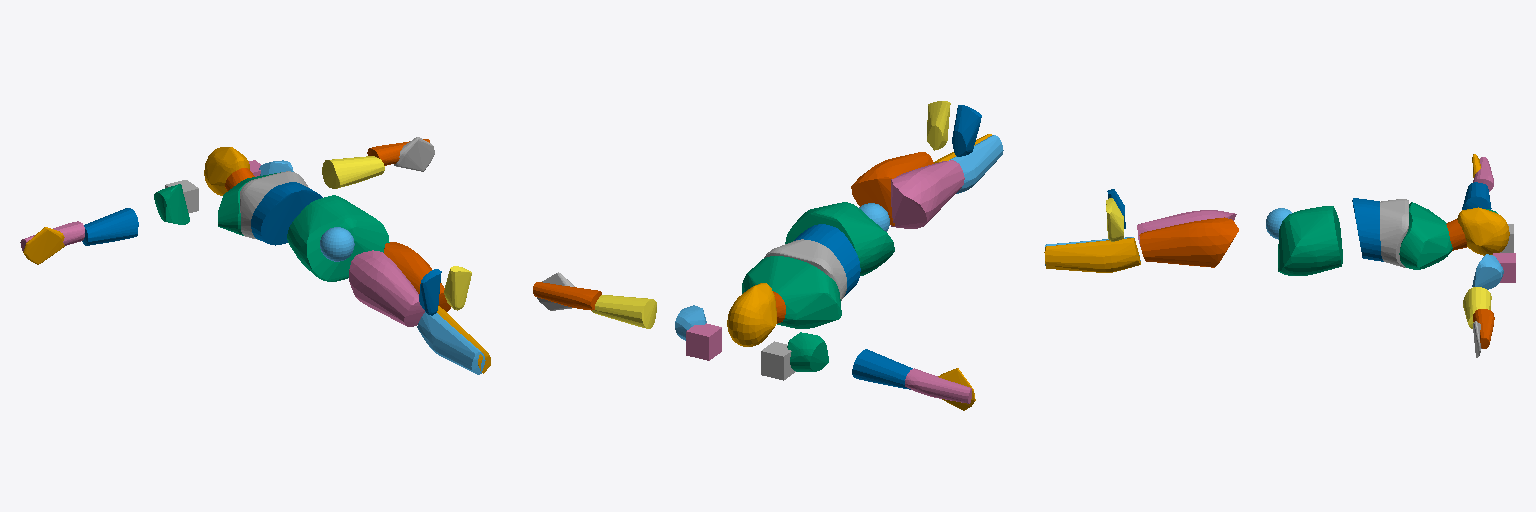
The robot description file, URDF, robot "Humanoid":
<?xml version="1.0" ?>
<robot name="Humanoid">

	<link name="root">
		<inertial>
			<origin xyz="0.0 0.0 0.0" rpy="0.0 0.0 0.0"/>
			<mass value="0.00001"/>
			<inertia ixx="0.1" ixy="0.0" ixz="0.0" iyy="0.1" iyz="0.0" izz="0.1"/>
		</inertial>
		<visual>
			<origin xyz="0.0 0.0 0.0" rpy="0.0 0.0 0.0"/>
			<geometry>
				<sphere radius="0.000001" />
			</geometry>
		</visual>
		<collision>
			<origin xyz="0.0 0.0 0.0" rpy="0.0 0.0 0.0"/>
			<geometry>
				<sphere radius="0.00000004" />
			</geometry>
		</collision>
	</link>

	<link name="root_ori">
		<inertial>
			<origin xyz="-0.00179506 -0.22333345 0.02821913" rpy="0.0 0.0 0.0"/>
			<mass value="0.0"/>
			<inertia ixx="0.0" ixy="0.0" ixz="0.0" iyy="0.0" iyz="0.0" izz="0.0"/>
		</inertial>
		<visual>
			<origin xyz="-0.00179506 -0.22333345 0.02821913" rpy="0.0 0.0 0.0"/>
			<geometry>
				<sphere radius="0.07"/>
			</geometry>
		</visual>
		<collision>
			<origin xyz="-0.00179506 -0.22333345 0.02821913" rpy="0.0 0.0 0.0"/>
			<geometry>
				<sphere radius="0.07"/>
			</geometry>
		</collision>
	</link>

	<joint name="root_joint" type="fixed">
		<origin xyz="-0.00179506 -0.22333345 0.02821913" rpy="0.0 0.0 0.0"/>
		<parent link="root"/>
		<child link="root_ori"/>
	</joint>
	
	<link name="left_hip">
		<inertial>
			<origin xyz="0.00057561 -0.00681268 -0.01696218" rpy="0.0 0.0 0.0"/>
			<mass value="0.00004"/>
			<inertia ixx="0.1" ixy="0.0" ixz="0.0" iyy="0.1" iyz="0.0" izz="0.1"/>
		</inertial>
		<visual>
			<origin xyz="0.00057561 -0.00681268 -0.01696218" rpy="0.0 0.0 0.0"/>
			<geometry>
				<mesh filename="package://Humanoid/meshes/body_parts_hips.obj" />
			</geometry>
		</visual>
		<collision>
			<origin xyz="0.00057561 -0.00681268 -0.01696218" rpy="0.0 0.0 0.0"/>
			<geometry>
				<mesh filename="package://Humanoid/meshes/body_parts_hips.obj" />
			</geometry>
		</collision>
	</link>

	<joint name="left_hip_joint" type="revolute">
		<origin xyz="0.06951974 -0.09140623 -0.00681533" rpy="0.0 0.0 0.0"/>
		<parent link="root_ori"/>
		<child link="left_hip"/>
		<axis xyz="0.0 1.0 0.0"/>
		<limit lower="-2.5" upper="1.4" effort="1000.0" velocity="0.5"/>
	</joint>

	<link name="right_hip">
		<inertial>
			<origin xyz="0.00057561 -0.00681268 -0.01696218" rpy="0.0 0.0 0.0"/>
			<mass value="0.00004"/>
			<inertia ixx="0.1" ixy="0.0" ixz="0.0" iyy="0.1" iyz="0.0" izz="0.1"/>
		</inertial>
		<visual>
			<origin xyz="0.00057561 -0.00681268 -0.01696218" rpy="0.0 0.0 0.0"/>
			<geometry>
				<mesh filename="package://Humanoid/meshes/body_parts_hips.obj" />
			</geometry>
		</visual>
		<collision>
			<origin xyz="0.00057561 -0.00681268 -0.01696218" rpy="0.0 0.0 0.0"/>
			<geometry>
				<mesh filename="package://Humanoid/meshes/body_parts_hips.obj" />
			</geometry>
		</collision>
	</link>

	<joint name="right_hip_joint" type="revolute">
		<origin xyz="0.06951974 -0.09140623 -0.00681533" rpy="0.0 0.0 0.0"/>
		<parent link="root_ori"/>
		<child link="right_hip"/>
		<axis xyz="0.0 1.0 0.0"/>
		<limit lower="-2.5" upper="1.4" effort="1000.0" velocity="0.5"/>
	</joint>

	<link name="spine1">
		<inertial>
			<origin xyz="0.0029969 0.06265952 0.02763221" rpy="0.0 0.0 0.0"/>
			<mass value="0.000001"/>
			<inertia ixx="0.1" ixy="0.0" ixz="0.0" iyy="0.1" iyz="0.0" izz="0.1"/>
		</inertial>
		<visual>
			<origin xyz="0.0029969 0.06265952 0.02763221" rpy="0.0 0.0 0.0"/>
			<geometry>
				<mesh filename="package://Humanoid/meshes/body_parts_spine.obj" />
			</geometry>
		</visual>
		<collision>
			<origin xyz="0.0029969 0.06265952 0.02763221" rpy="0.0 0.0 0.0"/>
			<geometry>
				<mesh filename="package://Humanoid/meshes/body_parts_spine.obj" />
			</geometry>
		</collision>
	</link>

	<joint name="spine1_joint" type="fixed">
		<origin xyz="-0.00253287 0.10896324 -0.02669631" rpy="0.0 0.0 0.0"/>
		<parent link="root_ori"/>
		<child link="spine1"/>
	</joint>

	<link name="left_knee">
		<inertial>
			<origin xyz="0.02136212 -0.15149257 0.00267958" rpy="0.0 0.0 0.0"/>
			<mass value="0.000001"/>
			<inertia ixx="0.1" ixy="0.0" ixz="0.0" iyy="0.1" iyz="0.0" izz="0.1"/>
		</inertial>
		<visual>
			<origin xyz="0.02136212 -0.15149257 0.00267958" rpy="0.0 0.0 0.0"/>
			<geometry>
				<mesh filename="package://Humanoid/meshes/body_parts_leftUpLeg.obj" />
			</geometry>
		</visual>
		<collision>
			<origin xyz="0.02136212 -0.15149257 0.00267958" rpy="0.0 0.0 0.0"/>
			<geometry>
				<mesh filename="package://Humanoid/meshes/body_parts_leftUpLeg.obj" />
			</geometry>
		</collision>
	</link>

	<joint name="left_knee_joint" type="revolute">
		<origin xyz="0.03427655 -0.37519857 -0.00449581" rpy="0.0 0.0 0.0"/>
		<parent link="left_hip"/>
		<child link="left_knee"/>
		<axis xyz="0.0 1.0 0.0"/>
		<limit lower="-0.1" upper="2.5" effort="1000.0" velocity="0.5"/>
	</joint>

	<link name="right_knee">
		<inertial>
			<origin xyz="-0.02252603 -0.15352734 -0.00307775" rpy="0.0 0.0 0.0"/>
			<mass value="0.00001"/>
			<inertia ixx="0.1" ixy="0.0" ixz="0.0" iyy="0.1" iyz="0.0" izz="0.1"/>
		</inertial>
		<visual>
			<origin xyz="-0.02252603 -0.15352734 -0.00307775" rpy="0.0 0.0 0.0"/>
			<geometry>
				<mesh filename="package://Humanoid/meshes/body_parts_rightUpLeg.obj" />
			</geometry>
		</visual>
		<collision>
			<origin xyz="-0.02252603 -0.15352734 -0.00307775" rpy="0.0 0.0 0.0"/>
			<geometry>
				<mesh filename="package://Humanoid/meshes/body_parts_rightUpLeg.obj" />
			</geometry>
		</collision>
	</link>

	<joint name="right_knee_joint" type="revolute">
		<origin xyz="-0.03829005 -0.382569 -0.00885003" rpy="0.0 0.0 0.0"/>
		<parent link="right_hip"/>
		<child link="right_knee"/>
		<axis xyz="0.0 1.0 0.0"/>
		<limit lower="-0.1" upper="2.5" effort="1000.0" velocity="0.5"/>
	</joint>

	<link name="spine2">
		<inertial>
			<origin xyz="-0.00052418 0.02933144 0.02045965" rpy="0.0 0.0 0.0"/>
			<mass value="0.000001"/>
			<inertia ixx="0.1" ixy="0.0" ixz="0.0" iyy="0.1" iyz="0.0" izz="0.1"/>
		</inertial>
		<visual>
			<origin xyz="-0.00052418 0.02933144 0.02045965" rpy="0.0 0.0 0.0"/>
			<geometry>
				<mesh filename="package://Humanoid/meshes/body_parts_spine1.obj" />
			</geometry>
		</visual>
		<collision>
			<origin xyz="-0.00052418 0.02933144 0.02045965" rpy="0.0 0.0 0.0"/>
			<geometry>
				<mesh filename="package://Humanoid/meshes/body_parts_spine1.obj" />
			</geometry>
		</collision>
	</link>

	<joint name="spine2_joint" type="fixed">
		<origin xyz="0.00548704 0.13518043 0.00109247" rpy="0.0 0.0 0.0"/>
		<parent link="spine1"/>
		<child link="spine2"/>
	</joint>

	<link name="left_ankle">
		<inertial>
			<origin xyz="-0.00726278 -0.16462932 -0.0345356" rpy="0.0 0.0 0.0"/>
			<mass value="0.00001"/>
			<inertia ixx="0.1" ixy="0.0" ixz="0.0" iyy="0.1" iyz="0.0" izz="0.1"/>
		</inertial>
		<visual>
			<origin xyz="-0.00726278 -0.16462932 -0.0345356" rpy="0.0 0.0 0.0"/>
			<geometry>
				<mesh filename="package://Humanoid/meshes/body_parts_leftLeg.obj" />
			</geometry>
		</visual>
		<collision>
			<origin xyz="-0.00726278 -0.16462932 -0.0345356" rpy="0.0 0.0 0.0"/>
			<geometry>
				<mesh filename="package://Humanoid/meshes/body_parts_leftLeg.obj" />
			</geometry>
		</collision>
	</link>

	<joint name="left_ankle_joint" type="revolute">
		<origin xyz="-0.0135957 -0.39796048 -0.04369333" rpy="0.0 0.0 0.0"/>
		<parent link="left_knee"/>
		<child link="left_ankle"/>
		<axis xyz="0.0 1.0 0.0"/>
		<limit lower="-0.4" upper="0.7" effort="1000.0" velocity="0.5"/>
	</joint>

	<link name="right_ankle">
		<inertial>
			<origin xyz="0.01018021 -0.15886355 -0.03476419" rpy="0.0 0.0 0.0"/>
			<mass value="0.00001"/>
			<inertia ixx="0.0" ixy="0.0" ixz="0.0" iyy="0.0" iyz="0.0" izz="0.0"/>
		</inertial>
		<visual>
			<origin xyz="0.01018021 -0.15886355 -0.03476419" rpy="0.0 0.0 0.0"/>
			<geometry>
				<mesh filename="package://Humanoid/meshes/body_parts_rightLeg.obj" />
			</geometry>
		</visual>
		<collision>
			<origin xyz="0.01018021 -0.15886355 -0.03476419" rpy="0.0 0.0 0.0"/>
			<geometry>
				<mesh filename="package://Humanoid/meshes/body_parts_rightLeg.obj" />
			</geometry>
		</collision>
	</link>

	<joint name="right_ankle_joint" type="revolute">
		<origin xyz="0.01577377 -0.3984146 -0.0423118" rpy="0.0 0.0 0.0"/>
		<parent link="right_knee"/>
		<child link="right_ankle"/>
		<axis xyz="0.0 1.0 0.0"/>
		<limit lower="-0.4" upper="0.7" effort="1000.0" velocity="0.5"/>
	</joint>

	<link name="spine3">
		<inertial>
			<origin xyz="-0.0022121 0.09440039 -0.03596294" rpy="0.0 0.0 0.0"/>
			<mass value="0.000001"/>
			<inertia ixx="0.1" ixy="0.0" ixz="0.0" iyy="0.1" iyz="0.0" izz="0.1"/>
		</inertial>
		<visual>
			<origin xyz="-0.0022121 0.09440039 -0.03596294" rpy="0.0 0.0 0.0"/>
			<geometry>
				<mesh filename="package://Humanoid/meshes/body_parts_spine2.obj" />
			</geometry>
		</visual>
		<collision>
			<origin xyz="-0.0022121 0.09440039 -0.03596294" rpy="0.0 0.0 0.0"/>
			<geometry>
				<mesh filename="package://Humanoid/meshes/body_parts_spine2.obj" />
			</geometry>
		</collision>
	</link>

	<joint name="spine3_joint" type="fixed">
		<origin xyz="0.001457 0.05292223 0.02542457" rpy="0.0 0.0 0.0"/>
		<parent link="spine2"/>
		<child link="spine3"/>
	</joint>

	<link name="left_foot">
		<inertial>
			<origin xyz="0.01451171 -0.03682505 0.03742239" rpy="0.0 0.0 0.0"/>
			<mass value="0.00001"/>
			<inertia ixx="0.1" ixy="0.0" ixz="0.0" iyy="0.1" iyz="0.0" izz="0.1"/>
		</inertial>
		<visual>
			<origin xyz="0.01451171 -0.03682505 0.03742239" rpy="0.0 0.0 0.0"/>
			<geometry>
				<mesh filename="package://Humanoid/meshes/body_parts_leftFoot.obj" />
			</geometry>
		</visual>
		<collision>
			<origin xyz="0.01451171 -0.03682505 0.03742239" rpy="0.0 0.0 0.0"/>
			<geometry>
				<mesh filename="package://Humanoid/meshes/body_parts_leftFoot.obj" />
			</geometry>
		</collision>
	</link>

	<joint name="left_foot_joint" type="fixed">
		<origin xyz="0.02635814 -0.05579078 0.1192884" rpy="0.0 0.0 0.0"/>
		<parent link="left_ankle"/>
		<child link="left_foot"/>
	</joint>

	<link name="right_foot">
		<inertial>
			<origin xyz="-0.01278681 -0.02989952 0.0397387" rpy="0.0 0.0 0.0"/>
			<mass value="0.00001"/>
			<inertia ixx="0.1" ixy="0.0" ixz="0.0" iyy="0.1" iyz="0.0" izz="0.1"/>
		</inertial>
		<visual>
			<origin xyz="-0.01278681 -0.02989952 0.0397387" rpy="0.0 0.0 0.0"/>
			<geometry>
				<mesh filename="package://Humanoid/meshes/body_parts_rightFoot.obj" />
			</geometry>
		</visual>
		<collision>
			<origin xyz="-0.01278681 -0.02989952 0.0397387" rpy="0.0 0.0 0.0"/>
			<geometry>
				<mesh filename="package://Humanoid/meshes/body_parts_rightFoot.obj" />
			</geometry>
		</collision>
	</link>

	<joint name="right_foot_joint" type="fixed">
		<origin xyz="-0.02537176 -0.04814398 0.12334795" rpy="0.0 0.0 0.0"/>
		<parent link="right_ankle"/>
		<child link="right_foot"/>
	</joint>

	<link name="neck">
		<inertial>
			<origin xyz="0.00058504 0.03762274 0.01938053" rpy="0.0 0.0 0.0"/>
			<mass value="0.00001"/>
			<inertia ixx="0.1" ixy="0.0" ixz="0.0" iyy="0.1" iyz="0.0" izz="0.1"/>
		</inertial>
		<visual>
			<origin xyz="0.00058504 0.03762274 0.01938053" rpy="0.0 0.0 0.0"/>
			<geometry>
				<mesh filename="package://Humanoid/meshes/body_parts_neck.obj" />
			</geometry>
		</visual>
		<collision>
			<origin xyz="0.00058504 0.03762274 0.01938053" rpy="0.0 0.0 0.0"/>
			<geometry>
				<mesh filename="package://Humanoid/meshes/body_parts_neck.obj" />
			</geometry>
		</collision>
	</link>

	<joint name="neck_joint" type="revolute">
		<origin xyz="-0.00277839 0.21387038 -0.04285703" rpy="0.0 0.0 0.0"/>
		<parent link="spine3"/>
		<child link="neck"/>
		<axis xyz="0.0 1.0 0.0"/>
		<limit lower="-0.6" upper="0.6" effort="1000.0" velocity="0.5"/>
	</joint>

	<link name="left_collar">
		<inertial>
			<origin xyz="0.07884474 0.12174932 -0.03408961" rpy="0.0 0.0 0.0"/>
			<mass value="0.00001"/>
			<inertia ixx="0.1" ixy="0.0" ixz="0.0" iyy="0.1" iyz="0.0" izz="0.1"/>
		</inertial>
		<visual>
			<origin xyz="0.07884474 0.12174932 -0.03408961" rpy="0.0 0.0 0.0"/>
			<geometry>
				<box size="0.1 0.1 0.1"/>
			</geometry>
		</visual>
		<collision>
			<origin xyz="0.07884474 0.12174932 -0.03408961" rpy="0.0 0.0 0.0"/>
			<geometry>
				<box size="0.1 0.1 0.1"/>
			</geometry>
		</collision>
	</link>

	<joint name="left_collar_joint" type="fixed">
		<origin xyz="0.07884474 0.12174932 -0.03408961" rpy="0.0 0.0 0.0"/>
		<parent link="neck"/>
		<child link="left_collar"/>
	</joint>

	<link name="right_collar">
		<inertial>
			<origin xyz="-0.08175919 0.11883285 -0.03861528" rpy="0.0 0.0 0.0"/>
			<mass value="0.00001"/>
			<inertia ixx="0.1" ixy="0.0" ixz="0.0" iyy="0.1" iyz="0.0" izz="0.1"/>
		</inertial>
		<visual>
			<origin xyz="-0.08175919 0.11883285 -0.03861528" rpy="0.0 0.0 0.0"/>
			<geometry>
				<box size="0.1 0.1 0.1"/>
			</geometry>
		</visual>
		<collision>
			<origin xyz="-0.08175919 0.11883285 -0.03861528" rpy="0.0 0.0 0.0"/>
			<geometry>
				<box size="0.1 0.1 0.1"/>
			</geometry>
		</collision>
	</link>

	<joint name="right_collar_joint" type="fixed">
		<origin xyz="-0.08175919 0.11883285 -0.03861528" rpy="0.0 0.0 0.0"/>
		<parent link="neck"/>
		<child link="right_collar"/>
	</joint>

	<link name="head">
		<inertial>
			<origin xyz="-0.00434165 0.0912436 -0.0164248" rpy="0.0 0.0 0.0"/>
			<mass value="0.00001"/>
			<inertia ixx="0.1" ixy="0.0" ixz="0.0" iyy="0.1" iyz="0.0" izz="0.1"/>
		</inertial>
		<visual>
			<origin xyz="-0.00434165 0.0912436 -0.0164248" rpy="0.0 0.0 0.0"/>
			<geometry>
				<mesh filename="package://Humanoid/meshes/body_parts_head.obj" />
			</geometry>
		</visual>
		<collision>
			<origin xyz="-0.00434165 0.0912436 -0.0164248" rpy="0.0 0.0 0.0"/>
			<geometry>
				<mesh filename="package://Humanoid/meshes/body_parts_head.obj" />
			</geometry>
		</collision>
	</link>

	<joint name="head_joint" type="fixed">
		<origin xyz="0.00515184 0.06496963 0.05134897" rpy="0.0 0.0 0.0"/>
		<parent link="neck"/>
		<child link="head"/>
	</joint>

	<link name="left_shoulder">
		<inertial>
			<origin xyz="0.06559623 0.02613187 -0.02027318" rpy="0.0 0.0 0.0"/>
			<mass value="0.00001"/>
			<inertia ixx="0.1" ixy="0.0" ixz="0.0" iyy="0.1" iyz="0.0" izz="0.1"/>
		</inertial>
		<visual>
			<origin xyz="0.06559623 0.02613187 -0.02027318" rpy="0.0 0.0 0.0"/>
			<geometry>
				<mesh filename="package://Humanoid/meshes/body_parts_leftShoulder.obj" />
			</geometry>
		</visual>
		<collision>
			<origin xyz="0.06559623 0.02613187 -0.02027318" rpy="0.0 0.0 0.0"/>
			<geometry>
				<mesh filename="package://Humanoid/meshes/body_parts_leftShoulder.obj" />
			</geometry>
		</collision>
	</link>

	<joint name="left_shoulder_joint" type="revolute">
		<origin xyz="0.09097692 0.03046888 -0.00886815" rpy="0.0 0.0 0.0"/>
		<parent link="left_collar"/>
		<child link="left_shoulder"/>
		<axis xyz="1.0 1.0 0.0"/>
		<limit lower="-1.0" upper="1.0" effort="1000.0" velocity="0.5"/>
	</joint>

	<link name="right_shoulder">
		<inertial>
			<origin xyz="-0.0667859 0.02682777 -0.01567558" rpy="0.0 0.0 0.0"/>
			<mass value="0.00001"/>
			<inertia ixx="0.1" ixy="0.0" ixz="0.0" iyy="0.1" iyz="0.0" izz="0.1"/>
		</inertial>
		<visual>
			<origin xyz="-0.0667859 0.02682777 -0.01567558" rpy="0.0 0.0 0.0"/>
			<geometry>
				<mesh filename="package://Humanoid/meshes/body_parts_rightShoulder.obj" />
			</geometry>
		</visual>
		<collision>
			<origin xyz="-0.0667859 0.02682777 -0.01567558" rpy="0.0 0.0 0.0"/>
			<geometry>
				<mesh filename="package://Humanoid/meshes/body_parts_rightShoulder.obj" />
			</geometry>
		</collision>
	</link>

	<joint name="right_shoulder_joint" type="revolute">
		<origin xyz="-0.09601238 0.03255117 -0.00914307" rpy="0.0 0.0 0.0"/>
		<parent link="right_collar"/>
		<child link="right_shoulder"/>
		<axis xyz="1.0 1.0 0.0"/>
		<limit lower="-1.0" upper="1.0" effort="1000.0" velocity="0.5"/>
	</joint>

    <link name="left_elbow">
		<inertial>
			<origin xyz="0.12948829 -0.01228957 -0.0090026" rpy="0.0 0.0 0.0"/>
			<mass value="0.00001"/>
			<inertia ixx="0.1" ixy="0.0" ixz="0.0" iyy="0.1" iyz="0.0" izz="0.1"/>
		</inertial>
		<visual>
			<origin xyz="0.12948829 -0.01228957 -0.0090026" rpy="0.0 0.0 0.0"/>
			<geometry>
				<mesh filename="package://Humanoid/meshes/body_parts_leftArm.obj" />
			</geometry>
		</visual>
		<collision>
			<origin xyz="0.12948829 -0.01228957 -0.0090026" rpy="0.0 0.0 0.0"/>
			<geometry>
				<mesh filename="package://Humanoid/meshes/body_parts_leftArm.obj" />
			</geometry>
		</collision>
	</link>

	<joint name="left_elbow_joint" type="revolute">
		<origin xyz="0.2596122 -0.01277207 -0.02745643" rpy="0.0 0.0 0.0"/>
		<parent link="left_shoulder"/>
		<child link="left_elbow"/>
		<axis xyz="0.0 1.0 1.0"/>
		<limit lower="-2.7" upper="0.0" effort="1000.0" velocity="0.5"/>
	</joint>

	<link name="right_elbow">
		<inertial>
			<origin xyz="-0.12550239 -0.01296561 -0.00590812" rpy="0.0 0.0 0.0"/>
			<mass value="0.00001"/>
			<inertia ixx="0.1" ixy="0.0" ixz="0.0" iyy="0.1" iyz="0.0" izz="0.1"/>
		</inertial>
		<visual>
			<origin xyz="-0.12550239 -0.01296561 -0.00590812" rpy="0.0 0.0 0.0"/>
			<geometry>
				<mesh filename="package://Humanoid/meshes/body_parts_rightArm.obj" />
			</geometry>
		</visual>
		<collision>
			<origin xyz="-0.12550239 -0.01296561 -0.00590812" rpy="0.0 0.0 0.0"/>
			<geometry>
				<mesh filename="package://Humanoid/meshes/body_parts_rightArm.obj" />
			</geometry>
		</collision>
	</link>

	<joint name="right_elbow_joint" type="revolute">
		<origin xyz="-0.25374195 -0.01332924 -0.02140098" rpy="0.0 0.0 0.0"/>
		<parent link="right_shoulder"/>
		<child link="right_elbow"/>
		<axis xyz="0.0 1.0 1.0"/>
		<limit lower="-2.7" upper="0.0" effort="1000.0" velocity="0.5"/>
	</joint>

	<link name="left_fore_arm">
		<inertial>
			<origin xyz="0.10665728 0.00690599 0.00605961" rpy="0.0 0.0 0.0"/>
			<mass value="0.00001"/>
			<inertia ixx="0.1" ixy="0.0" ixz="0.0" iyy="0.1" iyz="0.0" izz="0.1"/>
		</inertial>
		<visual>
			<origin xyz="0.10665728 0.00690599 0.00605961" rpy="0.0 0.0 0.0"/>
			<geometry>
				<mesh filename="package://Humanoid/meshes/body_parts_leftForeArm.obj" />
			</geometry>
		</visual>
		<collision>
			<origin xyz="0.0 0.0 0.0" rpy="0.0 0.0 0.0"/>
			<geometry>
				<box size="0.0 0.0 0.0"/>
			</geometry>
		</collision>
	</link>

	<joint name="left_fore_arm_joint" type="fixed">
		<origin xyz="0.2492336 0.00898604 -0.00117092" rpy="0.0 0.0 0.0"/>
		<parent link="left_elbow"/>
		<child link="left_fore_arm"/>
		<axis xyz="0.0 0.0 0.0"/>
		<limit lower="0.0" upper="0.0" effort="0.0" velocity="0.0"/>
	</joint>

	<link name="right_fore_arm">
		<inertial>
			<origin xyz="-0.10992141 0.00679169 0.00313351" rpy="0.0 0.0 0.0"/>
			<mass value="0.00001"/>
			<inertia ixx="0.1" ixy="0.0" ixz="0.0" iyy="0.1" iyz="0.0" izz="0.1"/>
		</inertial>
		<visual>
			<origin xyz="-0.10992141 0.00679169 0.00313351" rpy="0.0 0.0 0.0"/>
			<geometry>
				<mesh filename="package://Humanoid/meshes/body_parts_rightForeArm.obj" />
			</geometry>
		</visual>
		<collision>
			<origin xyz="0.0 0.0 0.0" rpy="0.0 0.0 0.0"/>
			<geometry>
				<box size="0.0 0.0 0.0"/>
			</geometry>
		</collision>
	</link>

	<joint name="right_fore_arm_joint" type="fixed">
		<origin xyz="-0.2552981 0.0077723 -0.0055592" rpy="0.0 0.0 0.0"/>
		<parent link="right_elbow"/>
		<child link="right_fore_arm"/>
		<axis xyz="0.0 0.0 0.0"/>
		<limit lower="0.0" upper="0.0" effort="0.0" velocity="0.0"/>
	</joint>

	<link name="left_hand">
		<inertial>
			<origin xyz="0.08488861 -0.00938576 0.00616219" rpy="0.0 0.0 0.0"/>
			<mass value="0.000001"/>
			<inertia ixx="0.1" ixy="0.0" ixz="0.0" iyy="0.1" iyz="0.0" izz="0.1"/>
		</inertial>
		<visual>
			<origin xyz="0.08488861 -0.00938576 0.00616219" rpy="0.0 0.0 0.0"/>
			<geometry>
				<mesh filename="package://Humanoid/meshes/body_parts_leftHand.obj" />
			</geometry>
		</visual>
		<collision>
			<origin xyz="0.0 0.0 0.0" rpy="0.0 0.0 0.0"/>
			<geometry>
				<box size="0.0 0.0 0.0"/>
			</geometry>
		</collision>
	</link>

	<joint name="left_hand_joint" type="revolute">
		<origin xyz="0.08404213 -0.00816153 -0.01494537" rpy="0.0 0.0 0.0"/>
		<parent link="left_fore_arm"/>
		<child link="left_hand"/>
		<axis xyz="0.0 1.0 0.0"/>
		<limit lower="0.0" upper="0.0" effort="1000.0" velocity="0.5"/>
	</joint>

	<link name="right_hand">
		<inertial>
			<origin xyz="-0.08138476 -0.00979895 0.0080402" rpy="0.0 0.0 0.0"/>
			<mass value="0.000001"/>
			<inertia ixx="0.1" ixy="0.0" ixz="0.0" iyy="0.1" iyz="0.0" izz="0.1"/>
		</inertial>
		<visual>
			<origin xyz="-0.08138476 -0.00979895 0.0080402" rpy="0.0 0.0 0.0"/>
			<geometry>
				<mesh filename="package://Humanoid/meshes/body_parts_rightHand.obj" />
			</geometry>
		</visual>
		<collision>
			<origin xyz="0.0 0.0 0.0" rpy="0.0 0.0 0.0"/>
			<geometry>
				<box size="0.0 0.0 0.0"/>
			</geometry>
		</collision>
	</link>

	<joint name="right_hand_joint" type="revolute">
		<origin xyz="-0.08462191 -0.00611724 -0.01031508" rpy="0.0 0.0 0.0"/>
		<parent link="right_fore_arm"/>
		<child link="right_hand"/>
		<axis xyz="0.0 1.0 0.0"/>
		<limit lower="0.0" upper="0.0" effort="1000.0" velocity="0.5"/>
	</joint>
</robot>

--- Facts derived from the render (not from the file) ---
3 views of the same robot in one strip: view 1: azimuth 30°, elevation 25°; view 2: azimuth 150°, elevation 25°; view 3: azimuth 270°, elevation 25° (orthographic).
Model Humanoid with 25 links and 24 joints (13 revolute, 11 fixed), rooted at root, posed every joint at zero.
Visible links, largest first — view 1: left_hip, right_knee, spine1, right_ankle, left_elbow, right_elbow, spine2, head, left_knee, right_shoulder, right_hand, spine3 (+6 smaller); view 2: spine3, right_knee, left_hip, head, left_knee, spine2, left_elbow, spine1, right_elbow, right_ankle, right_shoulder, right_fore_arm (+6 smaller); view 3: left_hip, left_knee, left_ankle, spine3, head, spine2, spine1, right_knee, left_shoulder, left_elbow, left_foot, right_elbow (+1 smaller).
Link boxes in pixels (left/top/right/bottom): left_hip: left=287, top=195, right=389, bottom=281; right_knee: left=349, top=250, right=424, bottom=326; spine1: left=251, top=182, right=322, bottom=245; right_ankle: left=417, top=312, right=485, bottom=374; left_elbow: left=322, top=156, right=384, bottom=188; right_elbow: left=82, top=208, right=138, bottom=245; spine2: left=240, top=171, right=308, bottom=239; head: left=204, top=147, right=249, bottom=195; left_knee: left=384, top=242, right=450, bottom=311; right_shoulder: left=154, top=184, right=189, bottom=224; right_hand: left=23, top=227, right=64, bottom=264; spine3: left=218, top=172, right=280, bottom=235; spine3: left=742, top=256, right=841, bottom=328; right_knee: left=891, top=160, right=964, bottom=228; left_hip: left=785, top=202, right=894, bottom=275; head: left=727, top=283, right=776, bottom=346; left_knee: left=851, top=152, right=933, bottom=225; spine2: left=764, top=239, right=846, bottom=300; left_elbow: left=592, top=295, right=656, bottom=328; spine1: left=794, top=224, right=860, bottom=296; right_elbow: left=852, top=349, right=912, bottom=389; right_ankle: left=949, top=135, right=1003, bottom=193; right_shoulder: left=787, top=332, right=828, bottom=371; right_fore_arm: left=905, top=368, right=971, bottom=403; left_hip: left=1278, top=206, right=1342, bottom=275; left_knee: left=1139, top=217, right=1238, bottom=267; left_ankle: left=1044, top=238, right=1140, bottom=272; spine3: left=1399, top=202, right=1452, bottom=269; head: left=1457, top=207, right=1509, bottom=255; spine2: left=1380, top=199, right=1408, bottom=267; spine1: left=1352, top=198, right=1383, bottom=261; right_knee: left=1137, top=210, right=1236, bottom=246; left_shoulder: left=1472, top=254, right=1503, bottom=289; left_elbow: left=1463, top=287, right=1491, bottom=328; left_foot: left=1106, top=198, right=1123, bottom=241; right_elbow: left=1462, top=182, right=1491, bottom=209.
Size in the robot's own frame: 1.91 by 2.07 by 0.4103 metres.
21 mesh visuals loaded from 20 distinct referenced files (20 OBJ).
